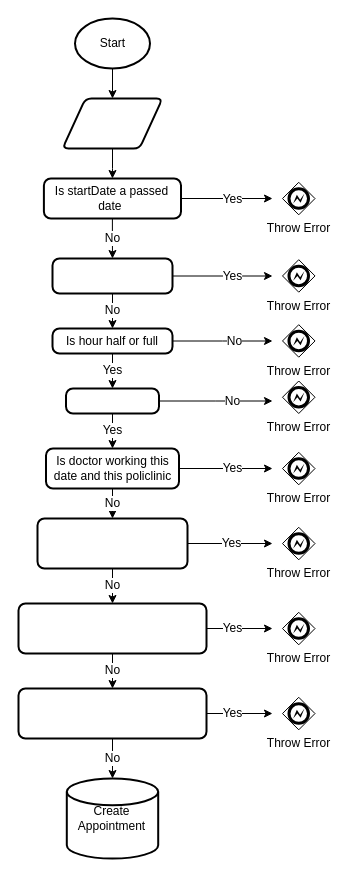
The diagram is 347 pixels wide and 876 high, and some of its shapes have lost their labels. The shapes that lost their labels are listed below. From the top down, each one's centre as x and y in pixels, then its label:
At point (112, 123): "Doctor Id Policlinic Id startDate".
At point (112, 275): "Is date working hour".
At point (112, 400): "Is doctor exist".
At point (112, 543): "Is patient have any appointment same date and same policlinic".
At point (112, 628): "Is patient have any appointment same date and hour".
At point (112, 713): "Is doctor have any appointment same date and hour".
